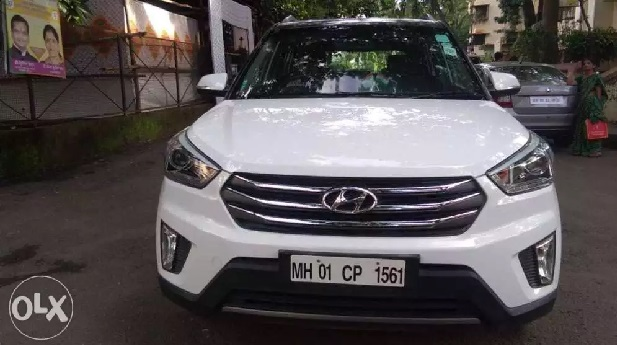licenseplate: (284, 251, 410, 290)
